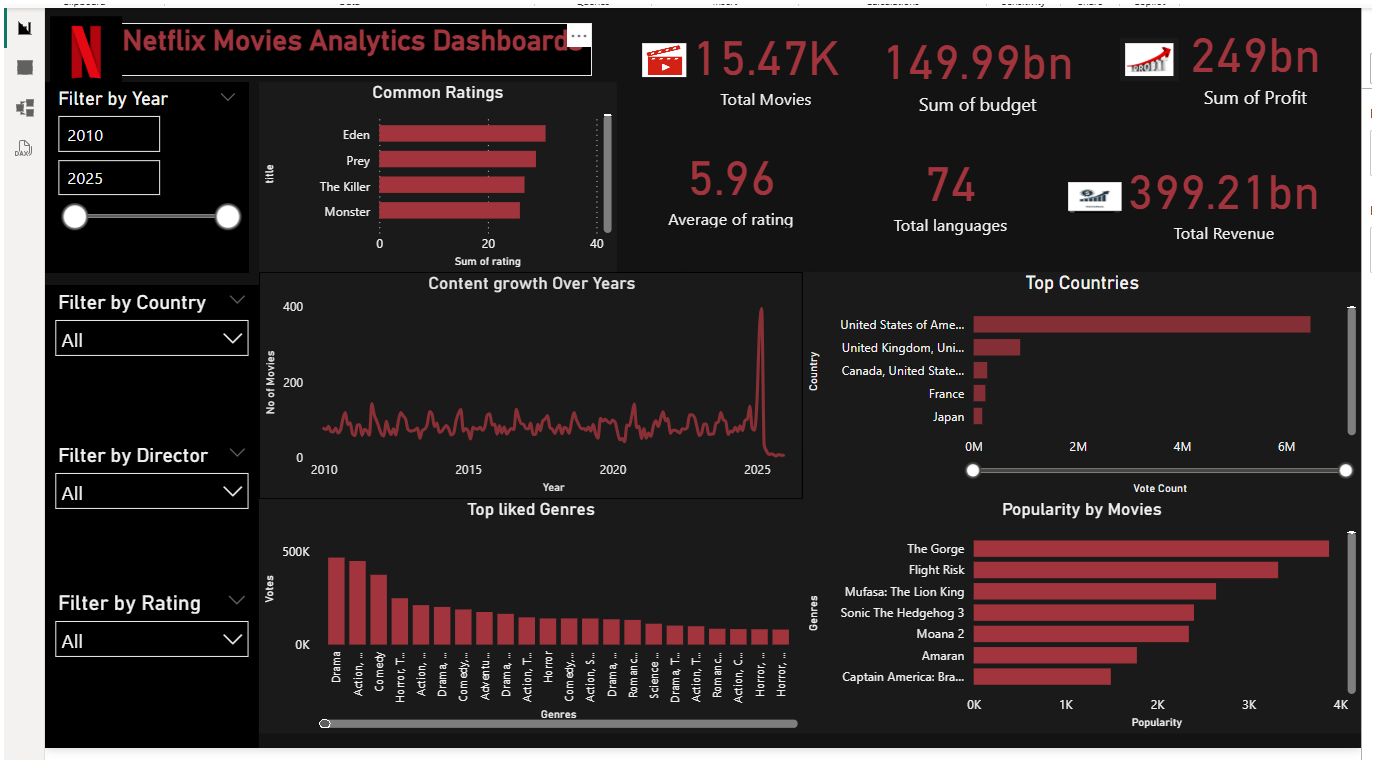

What the dashboard file says about the page in this screenshot:
{"tool":"powerbi","page":{"name":"Netflix Analysis Dashboard","canvas":[1280,720],"ordinal":0},"visuals":[{"type":"textbox","title":"Netflix Movies Analytics Dashboards ","box":[67.1,14.6,464.9,51.6],"z":0},{"type":"lineChart","title":"Content growth Over Years","fields":{"Y":["CountNonNull(netflix_movies.title)"],"Category":["netflix_movies.date_added.Variation.Date Hierarchy.Year","netflix_movies.date_added.Variation.Date Hierarchy.Quarter","netflix_movies.date_added.Variation.Date Hierarchy.Month"]},"box":[208.1,256.8,529.1,220.8],"z":1000},{"type":"card","fields":{"Values":["Count(netflix_movies.language)"]},"box":[811.2,122.6,139.1,108],"z":2000},{"type":"card","fields":{"Values":["Count(netflix_movies.title)"]},"box":[609.8,2.9,182.9,101],"z":3000},{"type":"columnChart","title":"Top liked Genres","fields":{"Category":["netflix_movies.genres"],"Y":["Sum(netflix_movies.vote_count)"]},"box":[208.1,477.6,529.1,227.6],"z":4000},{"type":"barChart","title":"Top Countries","fields":{"Category":["netflix_movies.country"],"Y":["Sum(netflix_movies.vote_count)"]},"box":[737.3,256.8,542.7,220.8],"z":5000},{"type":"clusteredBarChart","title":"Popularity by Movies","fields":{"Category":["netflix_movies.title","netflix_movies.director"],"Y":["Sum(netflix_movies.popularity)"]},"box":[737.3,477.6,542.7,227.6],"z":6000},{"type":"barChart","title":"Common Ratings","fields":{"Y":["Sum(netflix_movies.rating)"],"Category":["netflix_movies.title"]},"box":[208.1,72,348.2,184.8],"z":7000},{"type":"card","fields":{"Values":["Sum(netflix_movies.Profit)"]},"box":[1074.8,0,205.2,104.1],"z":8000},{"type":"image","box":[0,0,79.8,86.6],"z":9000},{"type":"card","fields":{"Values":["Sum(netflix_movies.revenue)"]},"box":[1032.9,133.3,227.6,102.1],"z":10000},{"type":"slicer","fields":{"Values":["netflix_movies.rating"]},"box":[0,561.2,208.1,158.5],"z":11000},{"type":"slicer","fields":{"Values":["netflix_movies.director"]},"box":[0,418.2,208.1,143],"z":12000},{"type":"slicer","fields":{"Values":["netflix_movies.country"]},"box":[0,269.4,208.1,148.8],"z":13000},{"type":"slicer","fields":{"Values":["netflix_movies.date_added.Variation.Date Hierarchy.Year"]},"box":[0,72,198.4,184.8],"z":14000},{"type":"image","box":[575.8,29.2,53.5,42.8],"z":15000},{"type":"image","box":[1045.6,29.2,57.4,41.8],"z":16000},{"type":"image","box":[990.2,164.4,62.2,39.9],"z":17000},{"type":"card","fields":{"Values":["Avg(netflix_movies.rating)"]},"box":[575.8,122.6,182.9,96.3],"z":18000},{"type":"card","fields":{"Values":["Sum(netflix_movies.budget)"]},"box":[792.7,3.9,229,109],"z":19000}]}

Visuals, with their boxes on the page's 1280x720 design canvas (x1, y1, x2, y2). These are canvas units, not pixel positions in the 1376x764 screenshot, which may show the page scaled, cropped or inside an application window:
"Netflix Movies Analytics Dashboards " textbox: bbox=[67, 15, 532, 66]
"Content growth Over Years" lineChart: bbox=[208, 257, 737, 478]
card - Count(netflix_movies.language): bbox=[811, 123, 950, 231]
card - Count(netflix_movies.title): bbox=[610, 3, 793, 104]
"Top liked Genres" columnChart: bbox=[208, 478, 737, 705]
"Top Countries" barChart: bbox=[737, 257, 1280, 478]
"Popularity by Movies" clusteredBarChart: bbox=[737, 478, 1280, 705]
"Common Ratings" barChart: bbox=[208, 72, 556, 257]
card - Sum(netflix_movies.Profit): bbox=[1075, 0, 1280, 104]
image: bbox=[0, 0, 80, 87]
card - Sum(netflix_movies.revenue): bbox=[1033, 133, 1260, 235]
slicer - netflix_movies.rating: bbox=[0, 561, 208, 720]
slicer - netflix_movies.director: bbox=[0, 418, 208, 561]
slicer - netflix_movies.country: bbox=[0, 269, 208, 418]
slicer - netflix_movies.date_added.Variation.Date Hierarchy.Year: bbox=[0, 72, 198, 257]
image: bbox=[576, 29, 629, 72]
image: bbox=[1046, 29, 1103, 71]
image: bbox=[990, 164, 1052, 204]
card - Avg(netflix_movies.rating): bbox=[576, 123, 759, 219]
card - Sum(netflix_movies.budget): bbox=[793, 4, 1022, 113]
